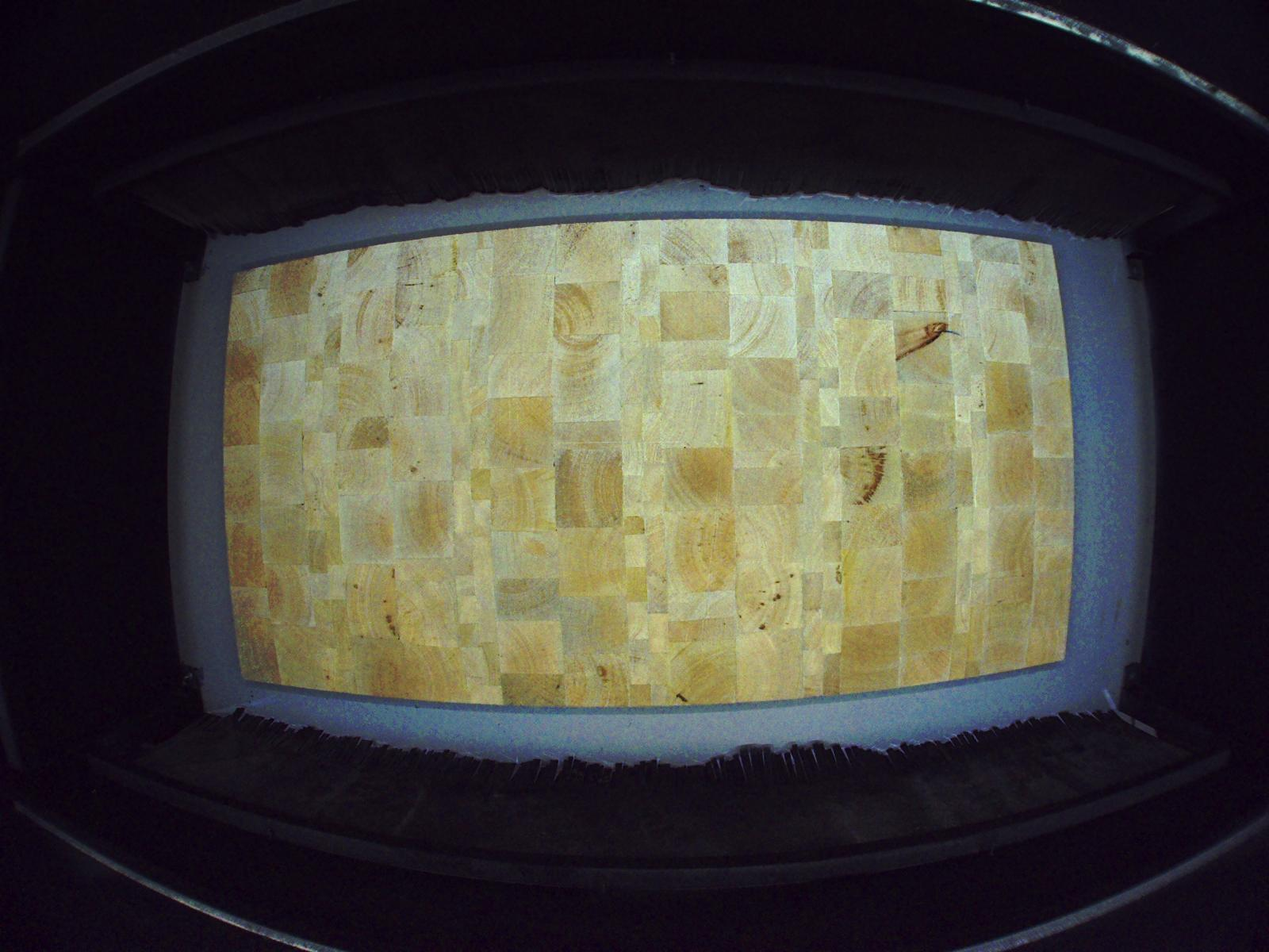nudillo: (892, 319, 951, 362)
